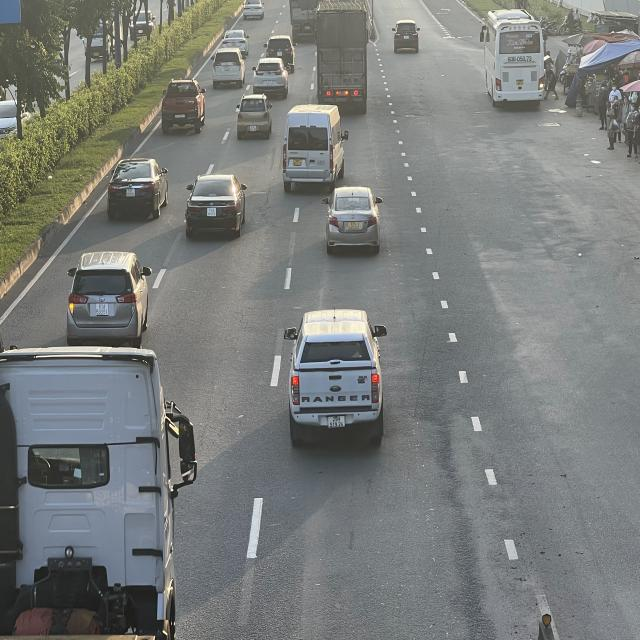car: (287, 310, 388, 447), (63, 252, 148, 349), (183, 173, 247, 237), (326, 186, 386, 252), (108, 159, 170, 220), (161, 78, 207, 133), (236, 94, 273, 139), (255, 56, 290, 96), (214, 47, 246, 88), (394, 20, 421, 56)
coach: (480, 9, 544, 106)
container: (0, 343, 191, 640)
truck: (318, 2, 370, 111)
van: (282, 103, 348, 189)
